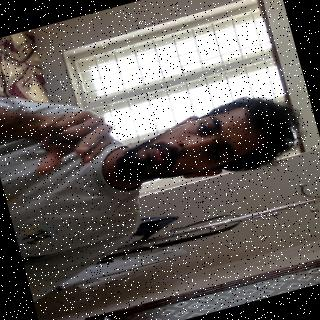No: (0, 74, 153, 201)
